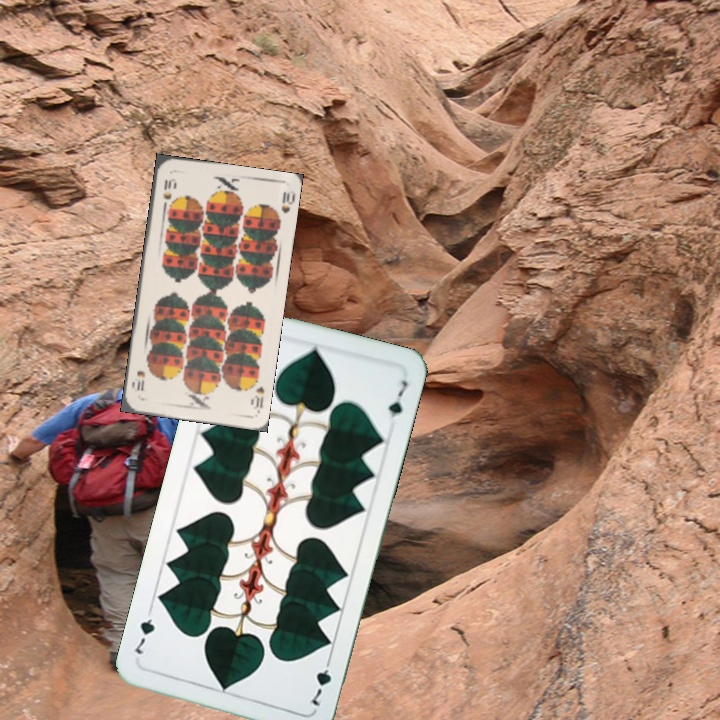G7: (307, 653, 334, 709)
S10: (246, 382, 267, 414), (159, 175, 176, 211)
